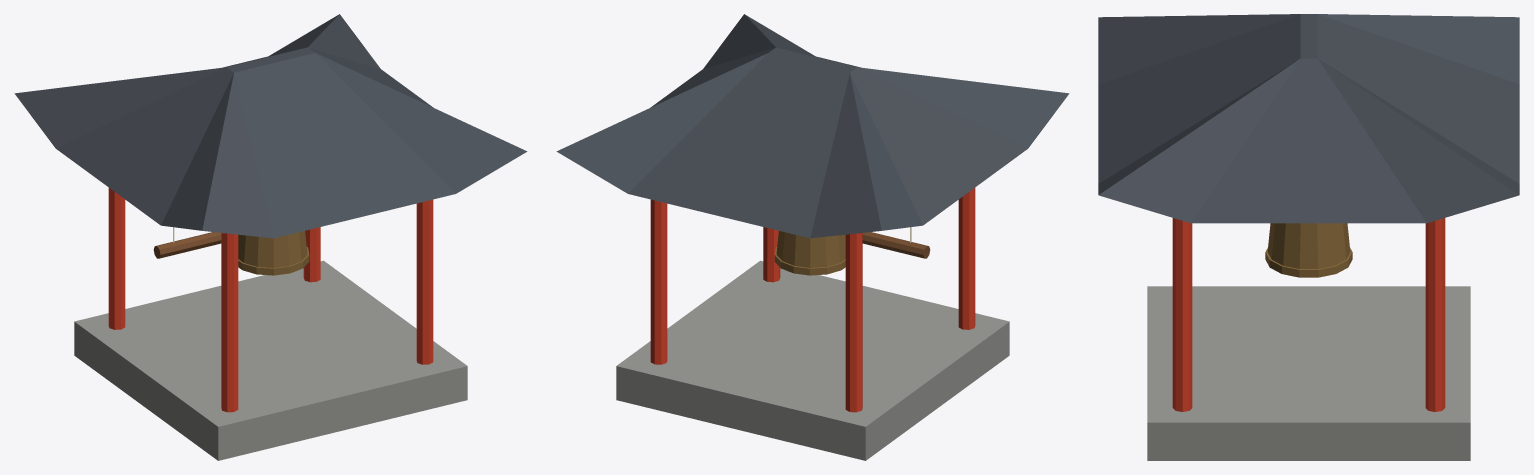
Rendered from tempelklocka.glb.
3 renders of one model, left to right at view 1: azimuth 30°, elevation 25°; view 2: azimuth 150°, elevation 25°; view 3: azimuth 270°, elevation 25°, orthographic. The views are drawn at different scales.
Parts seen in each view (by area): view 1: Paviljong, Stock; view 2: Paviljong, Stock; view 3: Paviljong.
Boxes of the visible parts, bbox=[...] form: Paviljong: bbox=[14, 14, 527, 460]; Stock: bbox=[153, 227, 221, 258]; Paviljong: bbox=[556, 14, 1069, 460]; Stock: bbox=[862, 227, 930, 258]; Paviljong: bbox=[1098, 14, 1519, 460].
Bounding box in the file's own units: 6 × 5.6 × 6.
